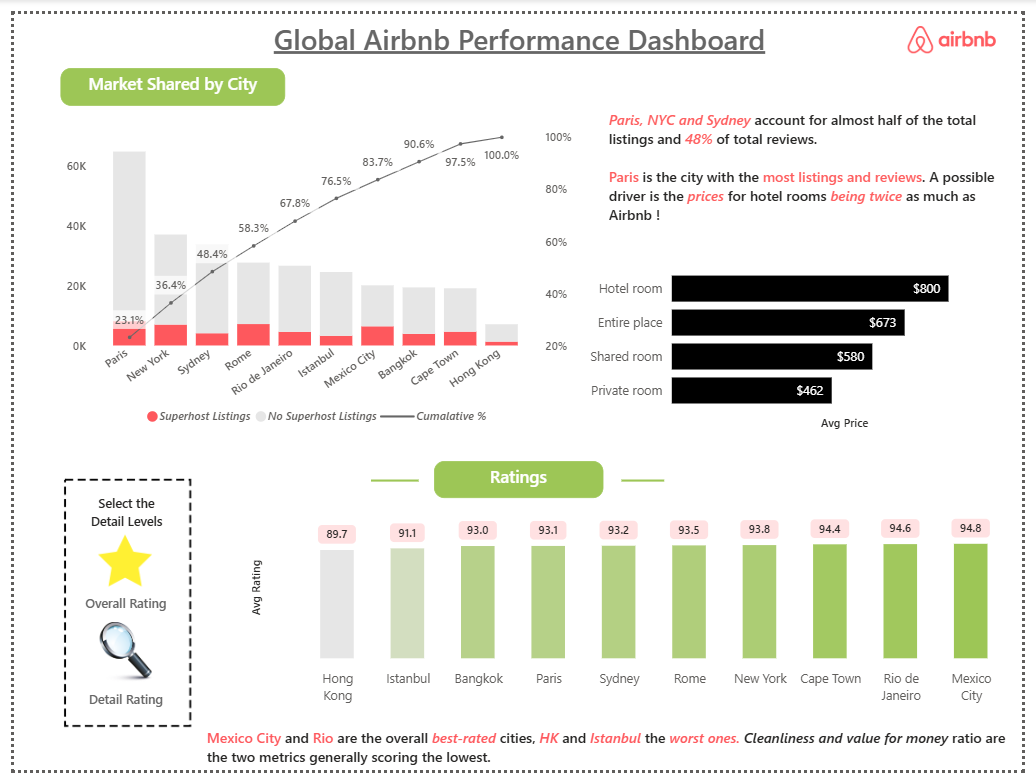

What the dashboard file says about the page in this screenshot:
{"tool":"powerbi","page":{"name":"Ratings","canvas":[960,720],"ordinal":1},"visuals":[{"type":"textbox","box":[221.4,0,520,51.4],"z":0},{"type":"image","box":[845,11.2,95,26.2],"z":1000},{"type":"textbox","box":[44.3,51.4,214.3,35.7],"z":2000},{"type":"lineStackedColumnComboChart","fields":{"Category":["Listings.city"],"Y":["Listings.Superhost Listings","Listings.No Superhost Listings"],"Y2":["Listings.Cumulaive %"]},"box":[43.8,100.8,492.5,299.6],"z":3000},{"type":"barChart","fields":{"Y":["Listings.Avg Price"],"Category":["Listings.room_type"]},"box":[536.7,223.3,423.3,177.8],"z":4000},{"type":"textbox","box":[561.2,86.2,398.8,137.5],"z":5000},{"type":"image","box":[15,401.2,185,318.8],"z":7000},{"type":"textbox","box":[399.4,425,161.2,35],"z":8000},{"type":"image","box":[78.5,492.7,57.5,55],"z":8000,"group":"g1"},{"type":"shape","box":[340,416.4,45.5,57.3],"z":9000},{"type":"image","box":[78.5,576.5,57.5,60.8],"z":9000,"group":"g2"},{"type":"shape","box":[578.2,416.4,40.9,57.3],"z":10000},{"type":"pivotTable","fields":{"Rows":["Listings.city"],"Values":["Listings.Accuracy","Listings.Cleanliness","Listings.Communication","Listings.Location","Listings.Values"]},"box":[170,460,790,213.6],"z":11000},{"type":"textbox","box":[61.2,450,91.2,47.5],"z":12000},{"type":"group","id":"g1","title":"Group 1","box":[56.4,492.7,101.7,85.2],"z":13000},{"type":"group","id":"g2","title":"Group 2","box":[56.4,576.5,101.7,91],"z":14000},{"type":"textbox","box":[56.4,546.2,101.7,31.7],"z":15000,"group":"g1"},{"type":"textbox","box":[178.2,673.6,781.8,46.4],"z":15000},{"type":"textbox","box":[56.4,635.9,101.7,31.7],"z":16000,"group":"g2"}]}

Visuals, with their boxes in screenshot pixels (x1, y1, x2, y2), scaled from the page's 960x720 canvas onto the 1036x775 screenshot:
textbox: left=239, top=0, right=800, bottom=55
image: left=912, top=12, right=1014, bottom=40
textbox: left=48, top=55, right=279, bottom=94
lineStackedColumnComboChart - Listings.city x Listings.Superhost Listings: left=47, top=108, right=579, bottom=431
barChart - Listings.Avg Price x Listings.room_type: left=579, top=240, right=1035, bottom=432
textbox: left=606, top=93, right=1035, bottom=241
image: left=16, top=432, right=216, bottom=774
textbox: left=431, top=457, right=605, bottom=495
image: left=85, top=530, right=147, bottom=590
shape: left=367, top=448, right=416, bottom=510
image: left=85, top=621, right=147, bottom=686
shape: left=624, top=448, right=668, bottom=510
pivotTable - Listings.city x Listings.Accuracy: left=183, top=495, right=1035, bottom=725
textbox: left=66, top=484, right=164, bottom=536
"Group 1" group: left=61, top=530, right=171, bottom=622
"Group 2" group: left=61, top=621, right=171, bottom=718
textbox: left=61, top=588, right=171, bottom=622
textbox: left=192, top=725, right=1035, bottom=774
textbox: left=61, top=684, right=171, bottom=719
